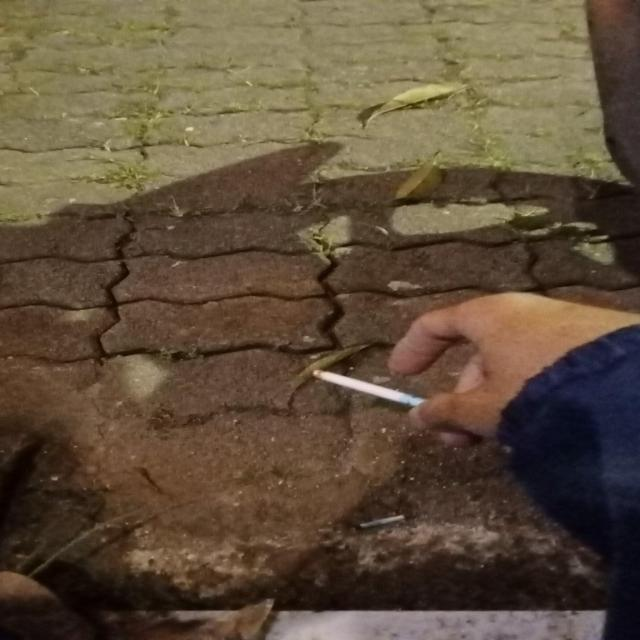rokok: (309, 364, 443, 412)
